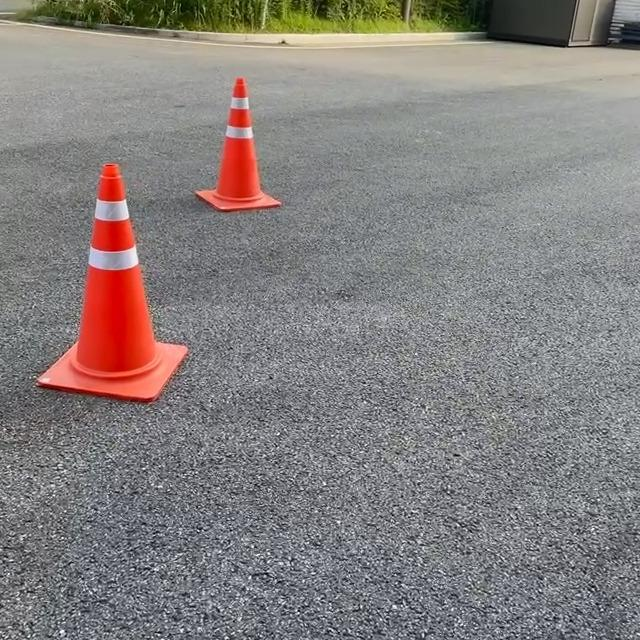fallen_object: (2, 159, 227, 421), (180, 60, 334, 241)
